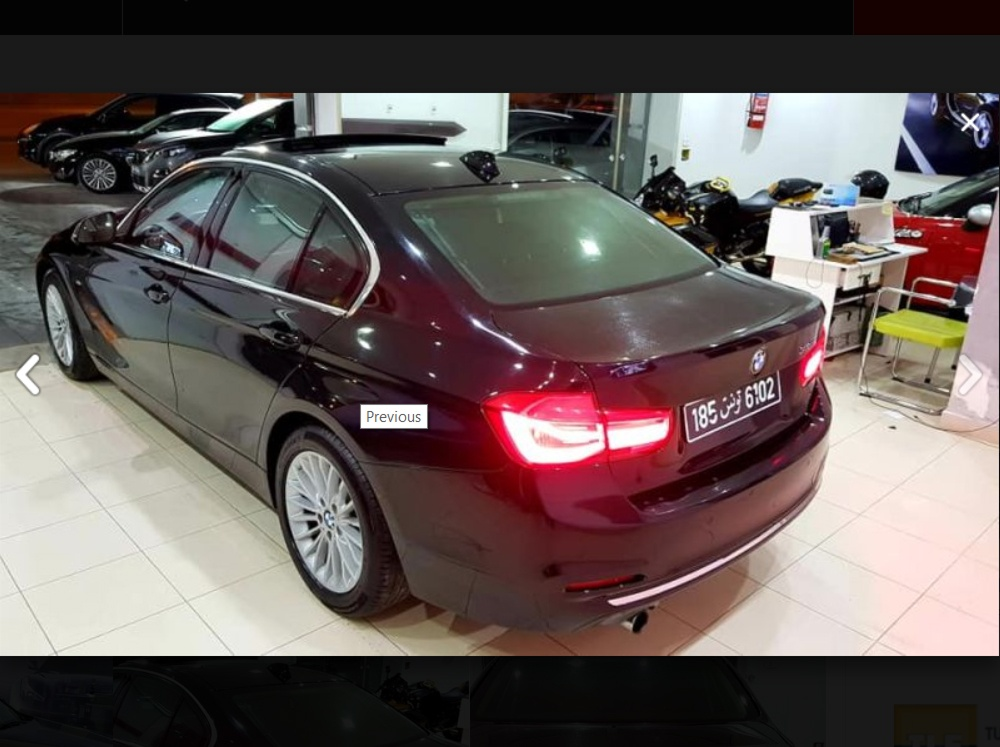LP: (678, 366, 793, 441)
